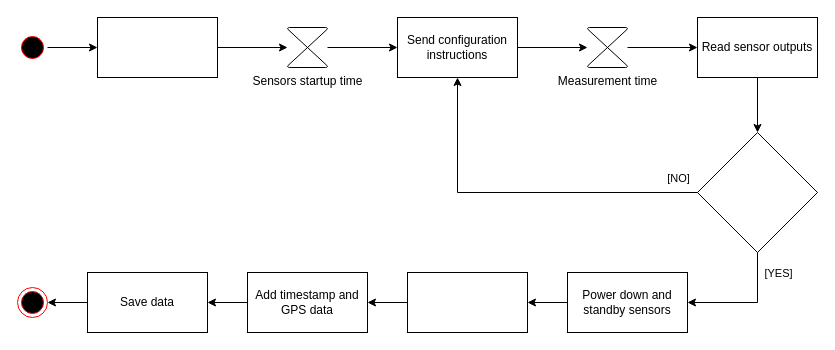
Some shapes in this 835 by 350 pixel diagram are drawn without their labels. Here are the shapes that lost their labels. From the top down, the centre of each, then its label:
(157,47): Power on and wake sensors
(757,192): All sensordata received?
(467,302): Format sensordata
